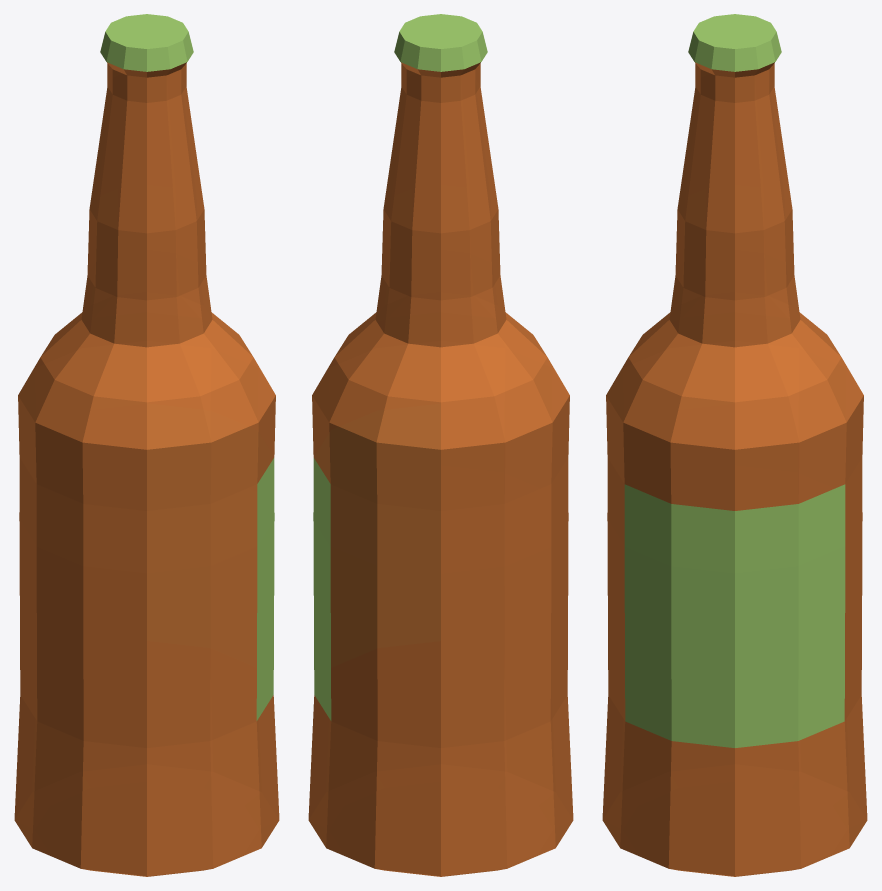
Rendered from Bottle.gltf.
The picture shows the model from 3 angles, left to right: view 1: azimuth 30°, elevation 25°; view 2: azimuth 150°, elevation 25°; view 3: azimuth 270°, elevation 25°; orthographic projection.
Visible parts, largest first — view 1: BeerBottle; view 2: BeerBottle; view 3: BeerBottle.
Boxes of the visible parts, x1,y1,x2,y2 form: BeerBottle: [14, 14, 279, 876]; BeerBottle: [308, 14, 573, 876]; BeerBottle: [602, 14, 867, 876].
Size of the model in its own units: 1.84 by 6.12 by 1.84.
